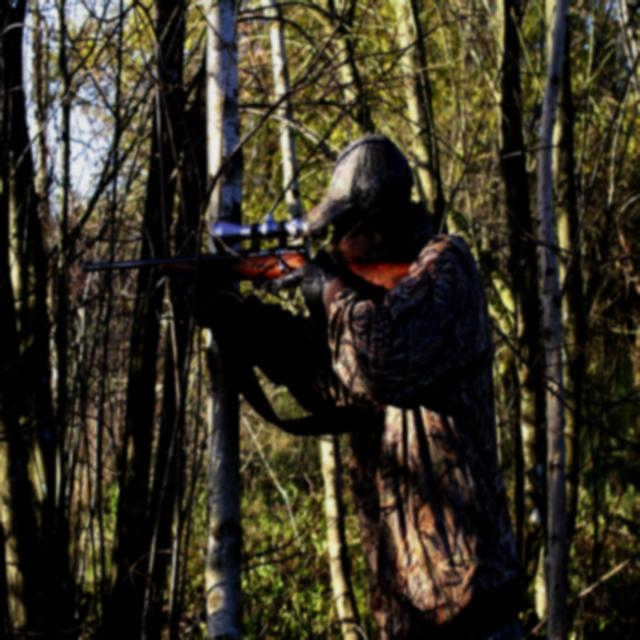rifle: (74, 195, 416, 315)
